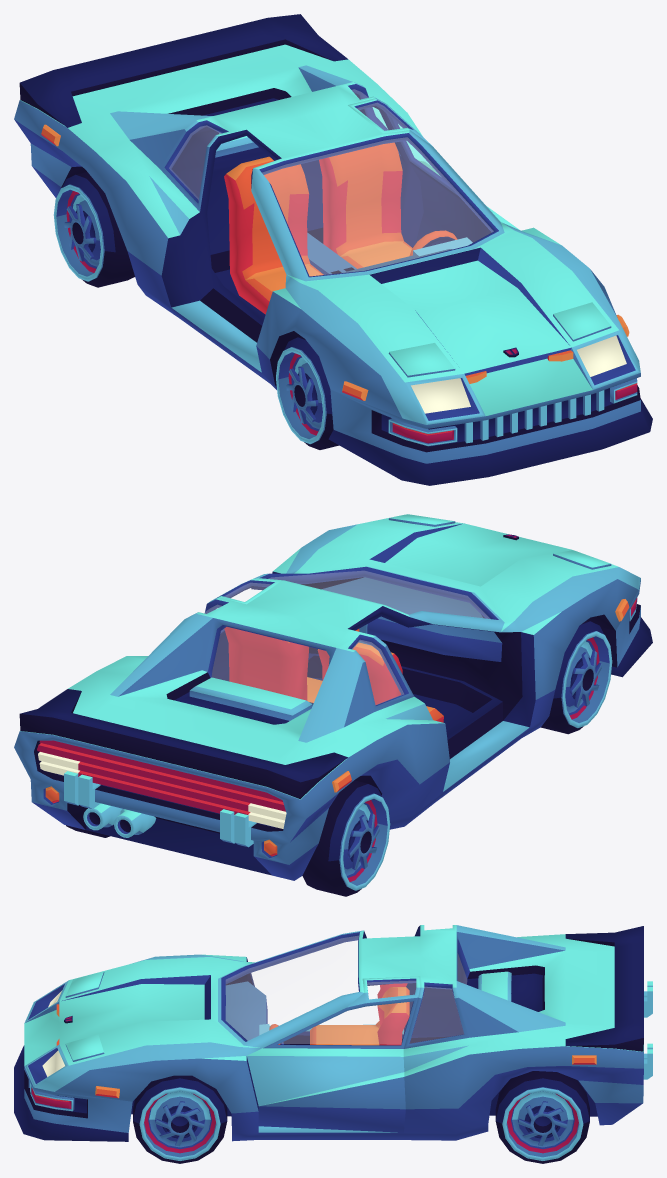
File: car.glb
The picture shows the model from 3 angles, top to bottom: view 1: azimuth 30°, elevation 25°; view 2: azimuth 150°, elevation 25°; view 3: azimuth 270°, elevation 25°; orthographic projection. The views are drawn at different scales.
Parts seen in each view (by area): view 1: CarBody, CarBumper, Wheel_BR, Doors, Wheel_FR; view 2: CarBody, Wheel_BR, Wheel_FR, CarBumper, Doors; view 3: CarBody, Doors, Wheel_BL, Wheel_FL, CarBumper.
Part boxes in pixels (<box>): CarBody: <box>14,14,640,424</box>; CarBumper: <box>328,373,652,485</box>; Wheel_BR: <box>53,172,134,287</box>; Doors: <box>348,98,520,246</box>; Wheel_FR: <box>276,336,338,449</box>; CarBody: <box>14,514,640,880</box>; Wheel_BR: <box>302,780,390,896</box>; Wheel_FR: <box>541,620,612,734</box>; CarBumper: <box>601,578,652,677</box>; Doors: <box>211,579,281,681</box>; CarBody: <box>24,925,652,1141</box>; Doors: <box>247,976,420,1132</box>; Wheel_BL: <box>495,1071,589,1163</box>; Wheel_FL: <box>133,1075,227,1163</box>; CarBumper: <box>14,1045,132,1141</box>.
Bounding box in the file's own units: 1.33 × 0.8045 × 3.03.
2 materials, 1 textured.
